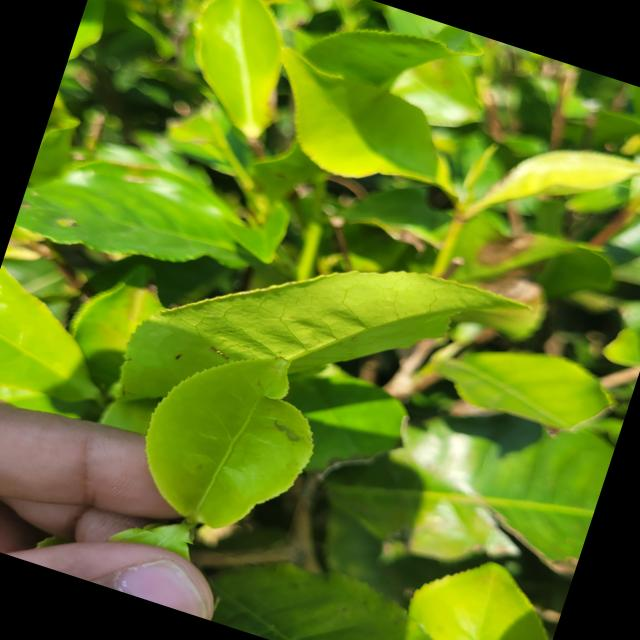Catagory A(1-2 days): (108, 306, 344, 572)
